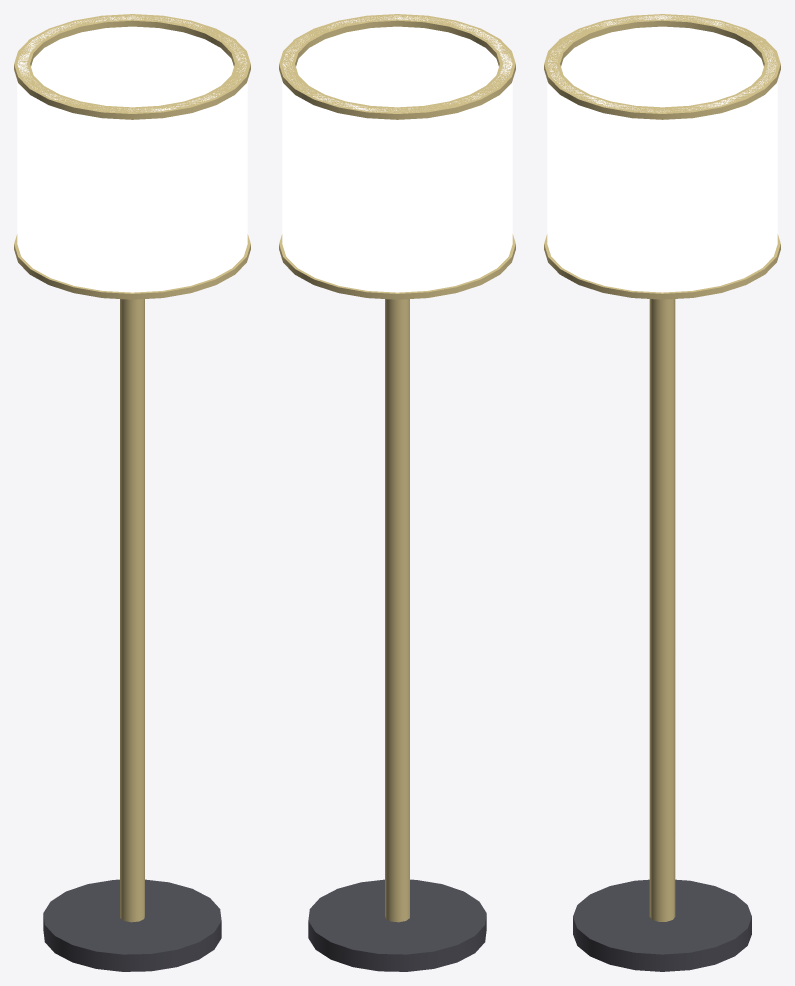
The model's file is bb_set_floorlamp.fbx.
3 renders of one model, left to right at view 1: azimuth 30°, elevation 25°; view 2: azimuth 150°, elevation 25°; view 3: azimuth 270°, elevation 25°, orthographic.
Parts seen in each view (by area): view 1: bb_set_floorlamp; view 2: bb_set_floorlamp; view 3: bb_set_floorlamp.
Part boxes in pixels (x1,y1,x2,y2): bb_set_floorlamp: (14,14,250,971); bb_set_floorlamp: (279,14,515,971); bb_set_floorlamp: (544,14,780,971).
Size of the model in its own units: 0.37 by 1.5 by 0.37.
